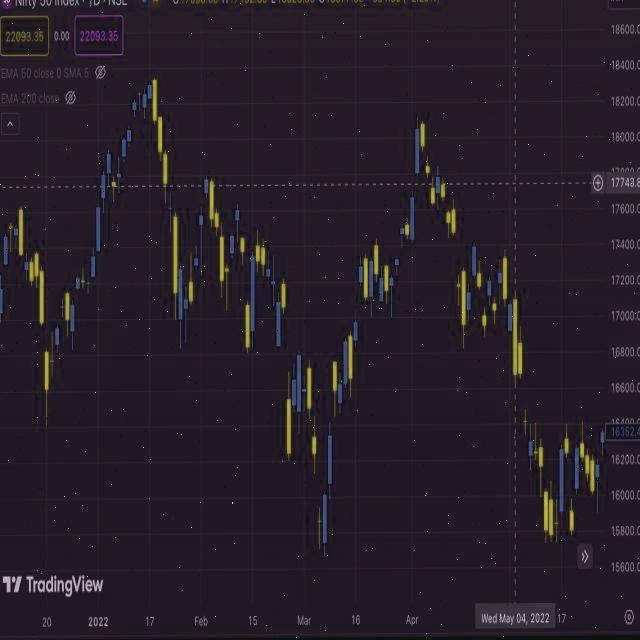Gap Down: (281, 284, 291, 454), (451, 208, 465, 328), (312, 436, 326, 546), (518, 344, 532, 454), (38, 268, 49, 391), (239, 237, 250, 348), (564, 438, 574, 532), (443, 185, 450, 226)
Gap Up: (327, 362, 337, 486), (411, 130, 420, 236), (354, 266, 363, 339), (71, 278, 80, 334), (127, 102, 137, 142), (395, 226, 403, 266)
